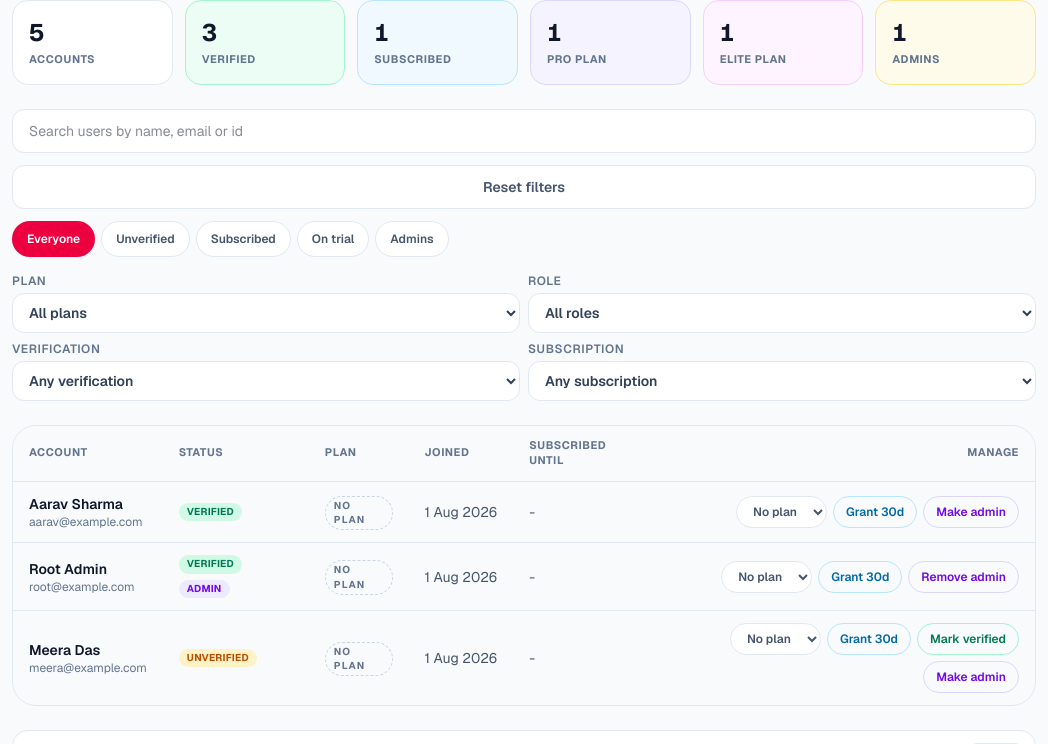
Scenario: AdminUsers › narrows the table by search
Expected: the table is shown, [13, 426, 1035, 705]
Type "meera" into the search field named "Search accounts". click: (524, 130)
box: [12, 108, 1036, 152]
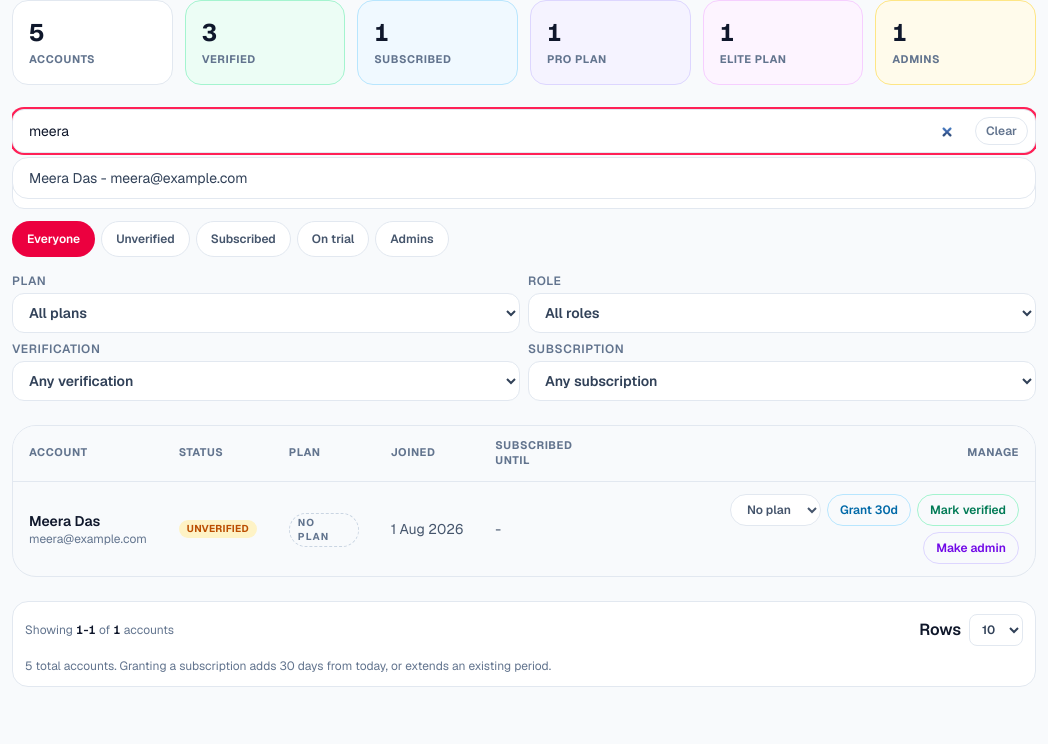
Expected: the text "Meera Das" is shown, [29, 512, 100, 530]
Result: the text "Aarav Sharma" is gone
